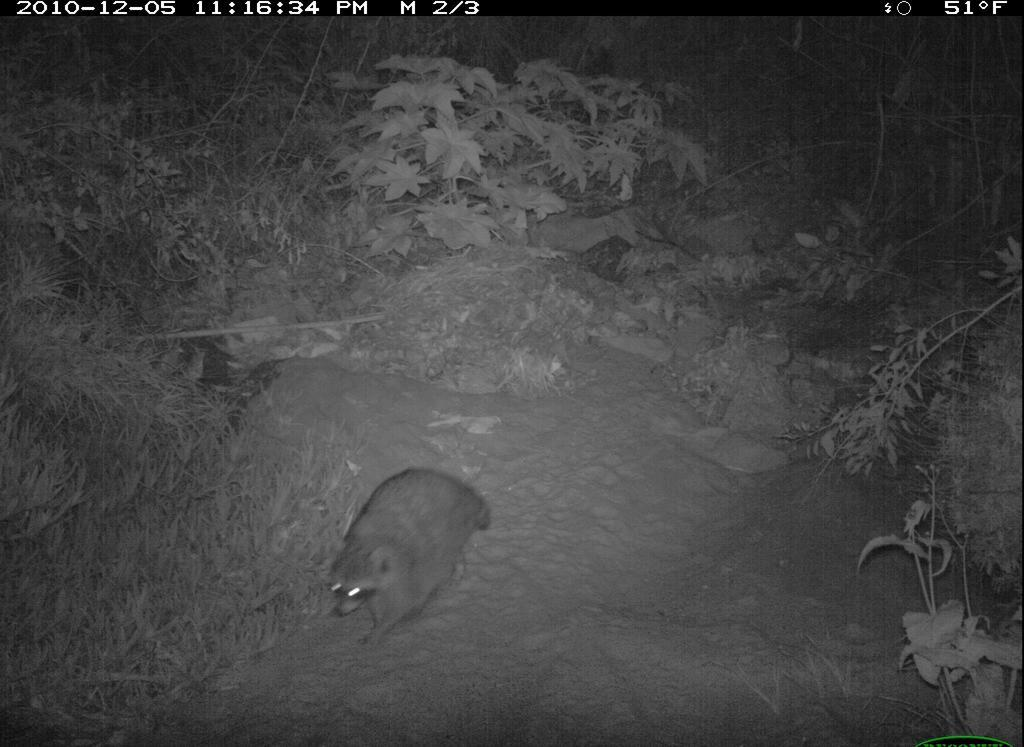raccoon: (318, 449, 505, 656)
